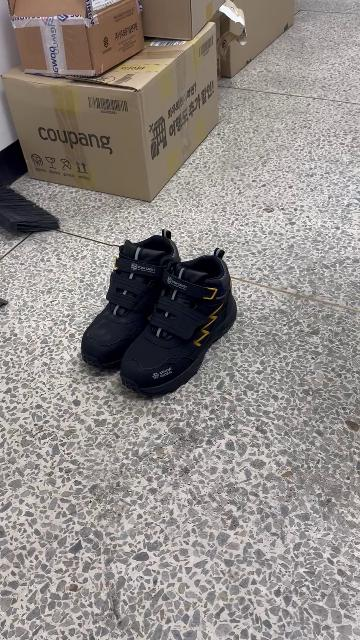shoe_worn: (117, 248, 239, 401), (81, 229, 182, 375)
